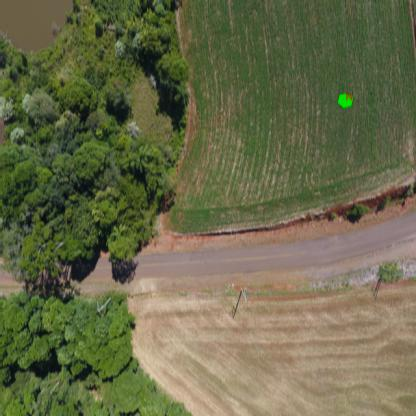N: (344, 90, 354, 101)
hexagon: (336, 92, 354, 109)
